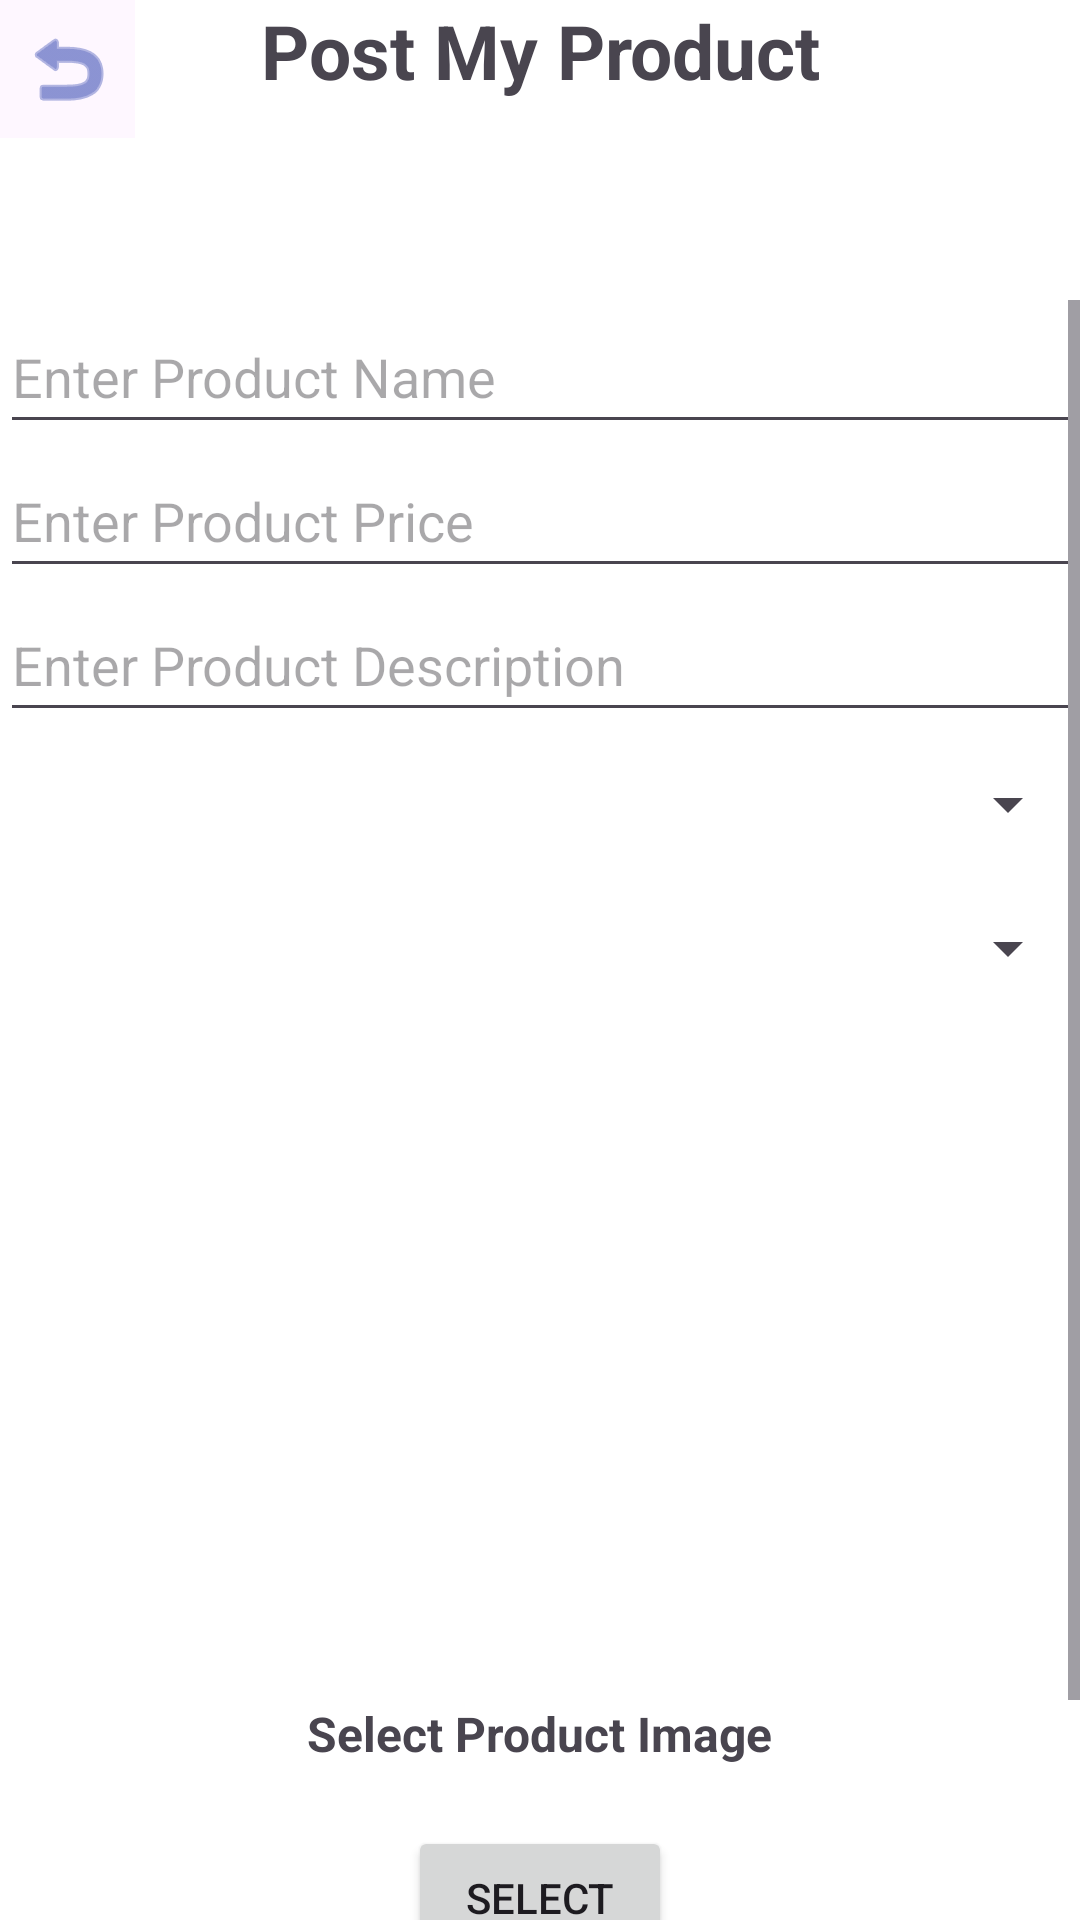

Screen size 1080w x 1920h. Icon name, then its center in pixels as point (x, y):
Return Home: point (69, 69)
